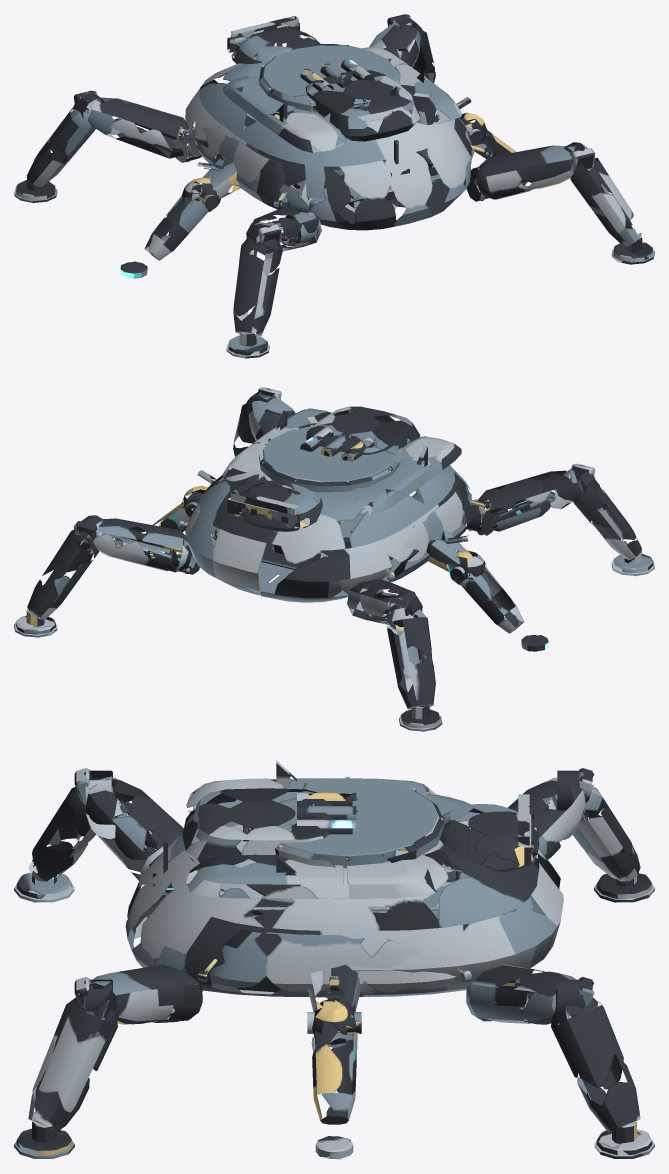
File: ArachnidHexapod_Atlas.fbx
The picture shows the model from 3 angles, top to bottom: view 1: azimuth 30°, elevation 25°; view 2: azimuth 150°, elevation 25°; view 3: azimuth 270°, elevation 25°; orthographic projection. The views are drawn at different scales.
Parts seen in each view (by area): view 1: ArachnidHexapod_UnifiedMesh; view 2: ArachnidHexapod_UnifiedMesh; view 3: ArachnidHexapod_UnifiedMesh.
Boxes of the visible parts, <box> form: ArachnidHexapod_UnifiedMesh: <box>14,14,654,358</box>; ArachnidHexapod_UnifiedMesh: <box>14,387,654,731</box>; ArachnidHexapod_UnifiedMesh: <box>14,760,654,1159</box>.
Bounding box in the file's own units: 519 × 184 × 497.
1 material, 1 textured.
